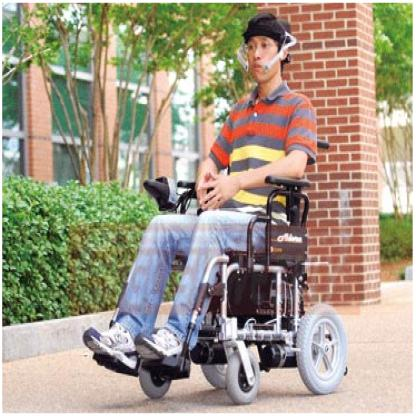wheelchair: (108, 11, 347, 399)
